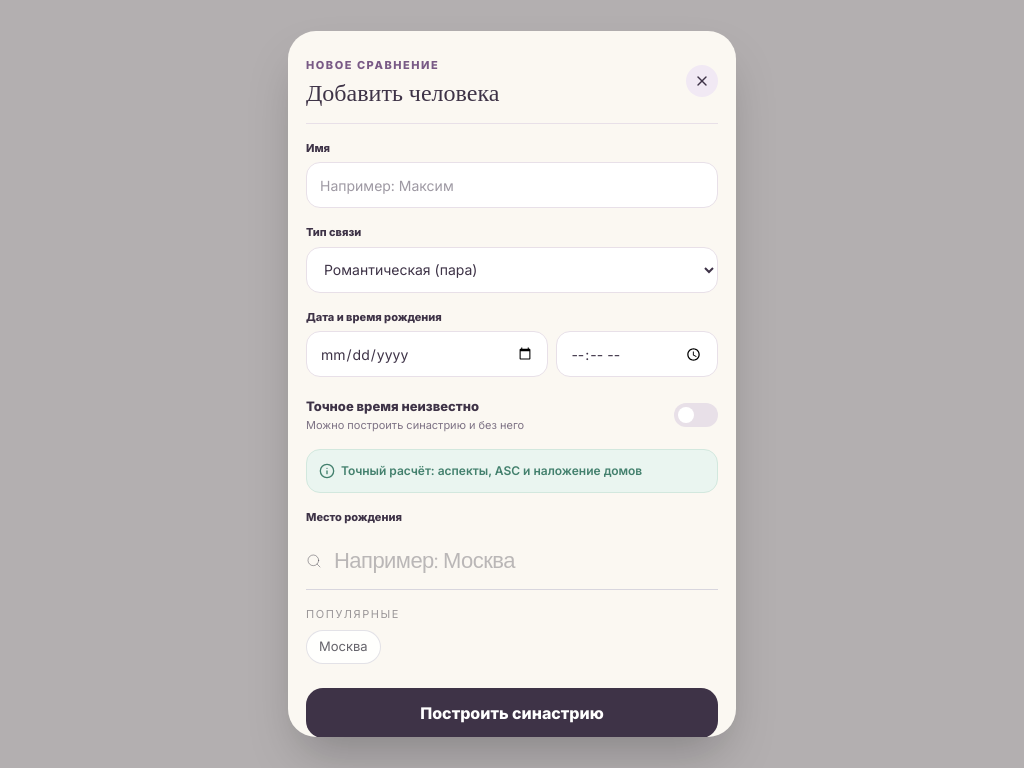
it: SynastryAddSheet › toggles unknown time switch and disables birth time input
Expected: the time field named "Время рождения" is enabled, [556,331,718,377]
Click the switch at {"x": 696, "y": 415}, box [674,403,718,427]
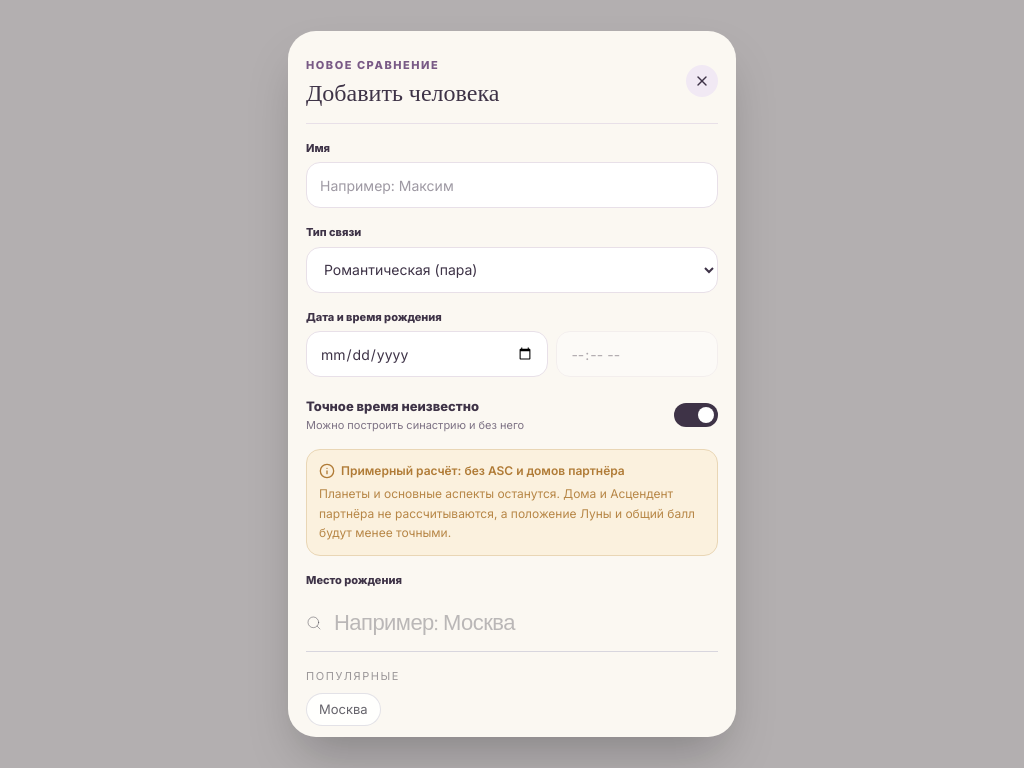
Expected: the time field named "Время рождения" is disabled, [556,331,718,377]
Expected: the text "Примерный расчёт: без ASC и домов партнёра" is shown, [319,463,625,479]
